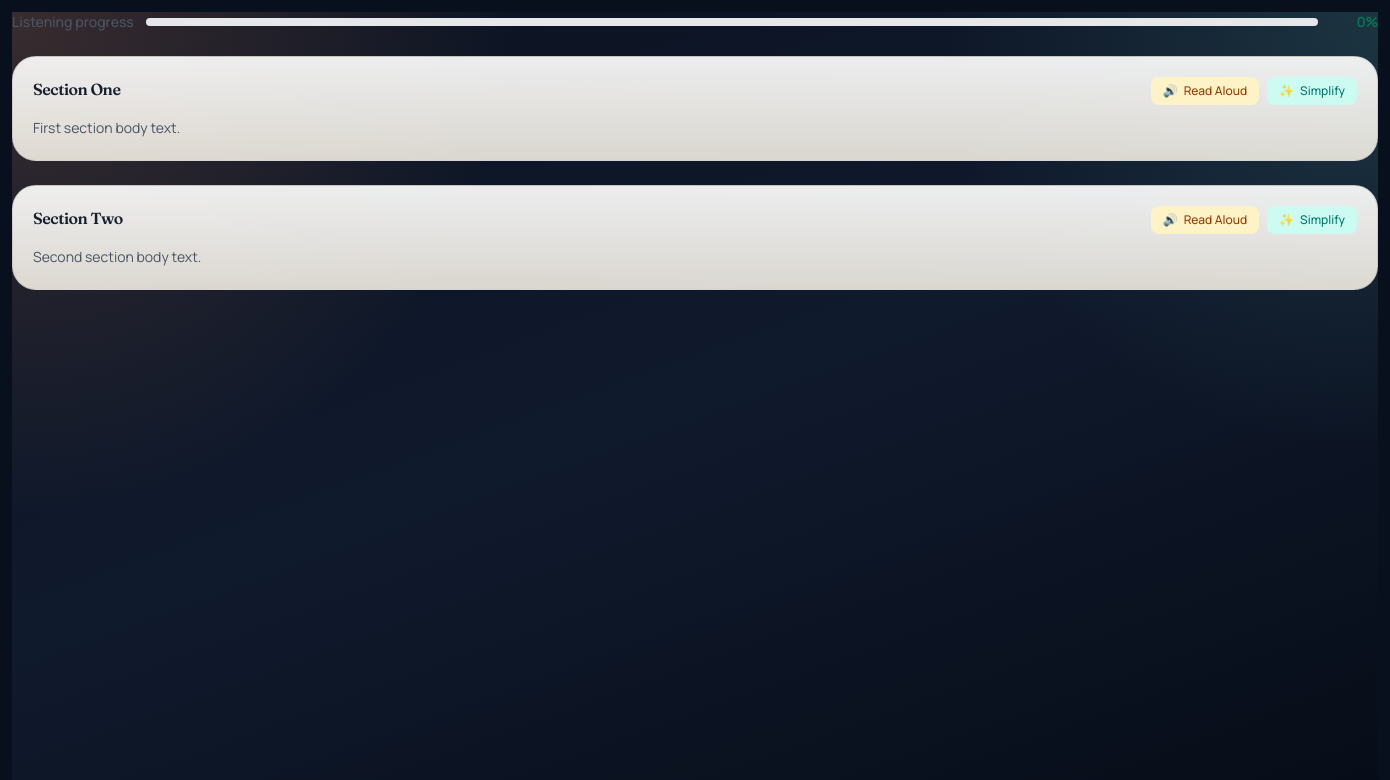
Test: SectionLearningTools — Simplify › toggles between Original and Simplified on repeated clicks
Click the button "✨ Simplify" in the row of "Section One": click(1312, 91) [1267,77,1357,105]
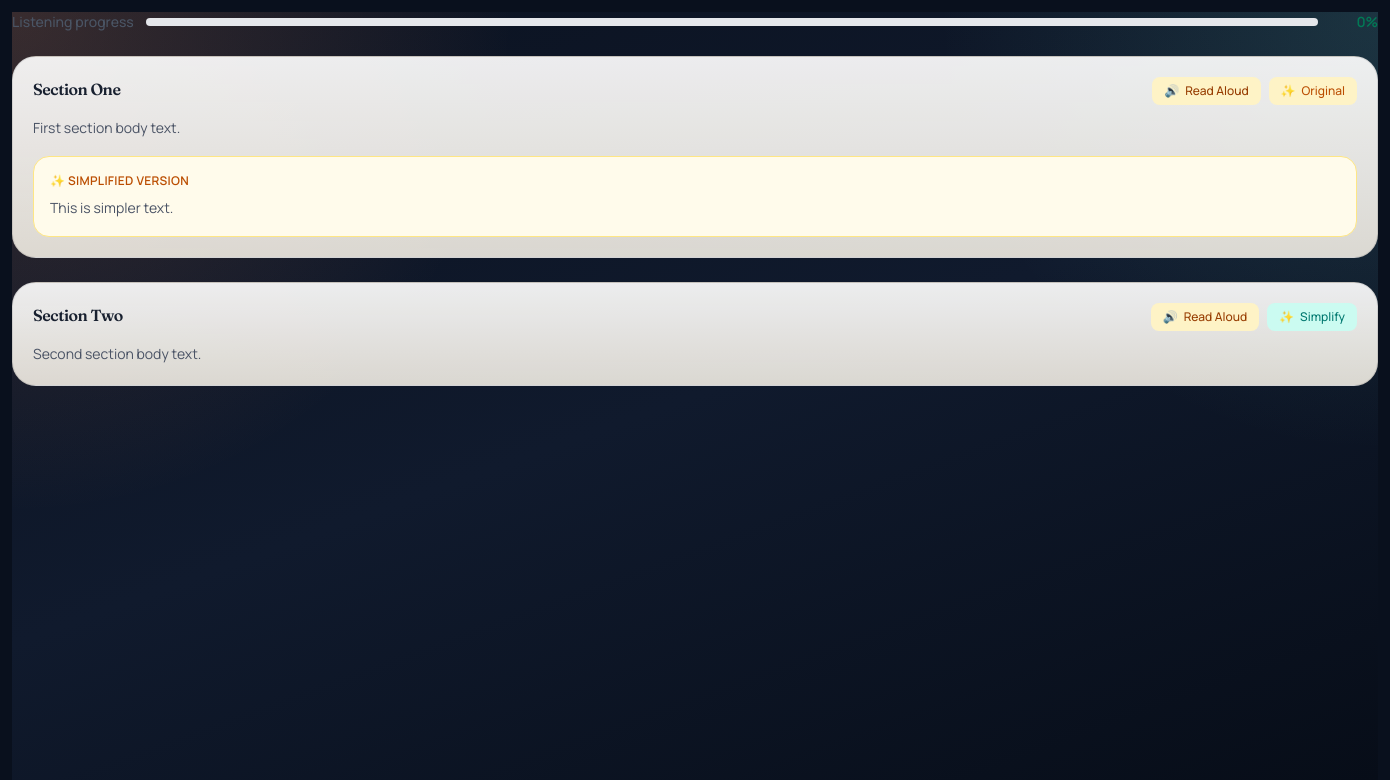
Now the text "This is simpler text." is shown, box [50,198,173,217]
Press "Original" to hide the simplified panel
Click the button with aria-label "Show original text for": click(1313, 91) [1269,77,1357,105]
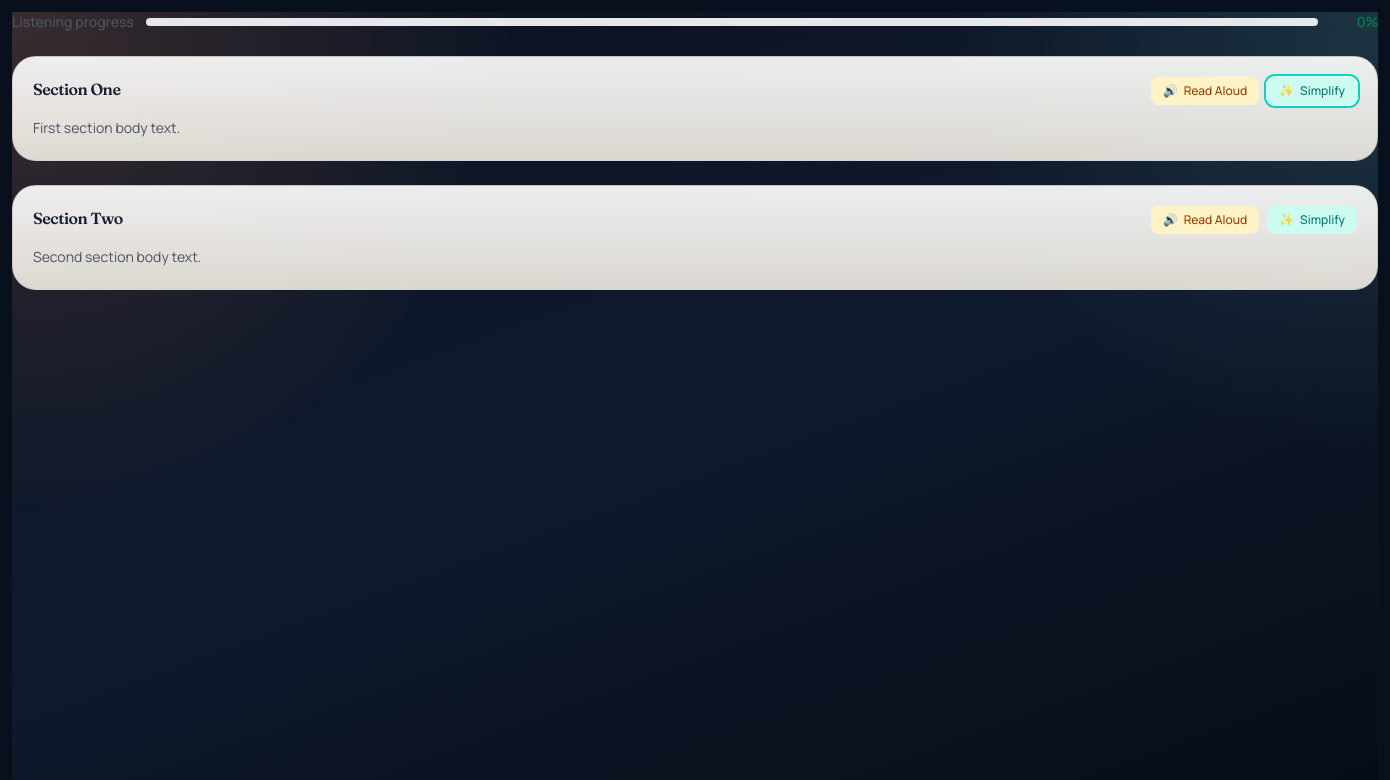
Now the text "This is simpler text." is gone
